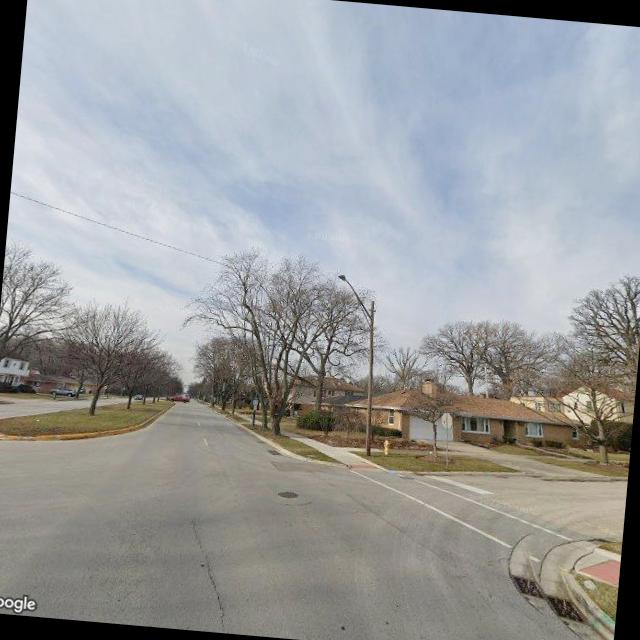pothole: (178, 514, 242, 630)
